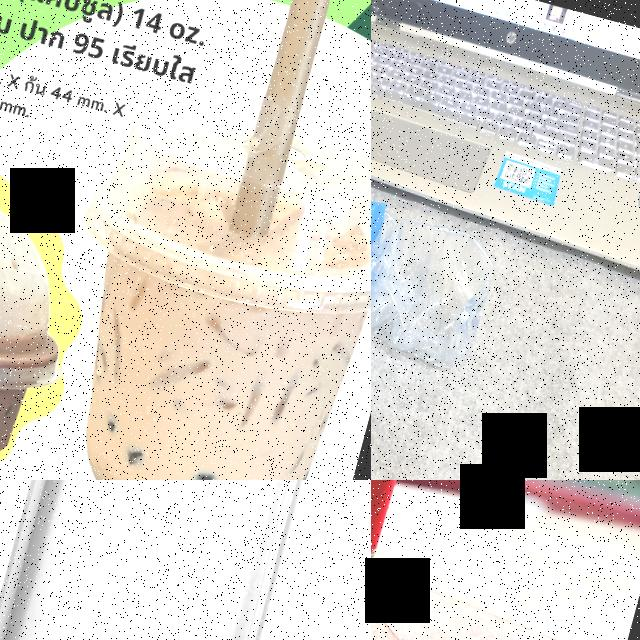bottle: (0, 480, 365, 640), (371, 158, 511, 393)
cup: (3, 75, 371, 480)
